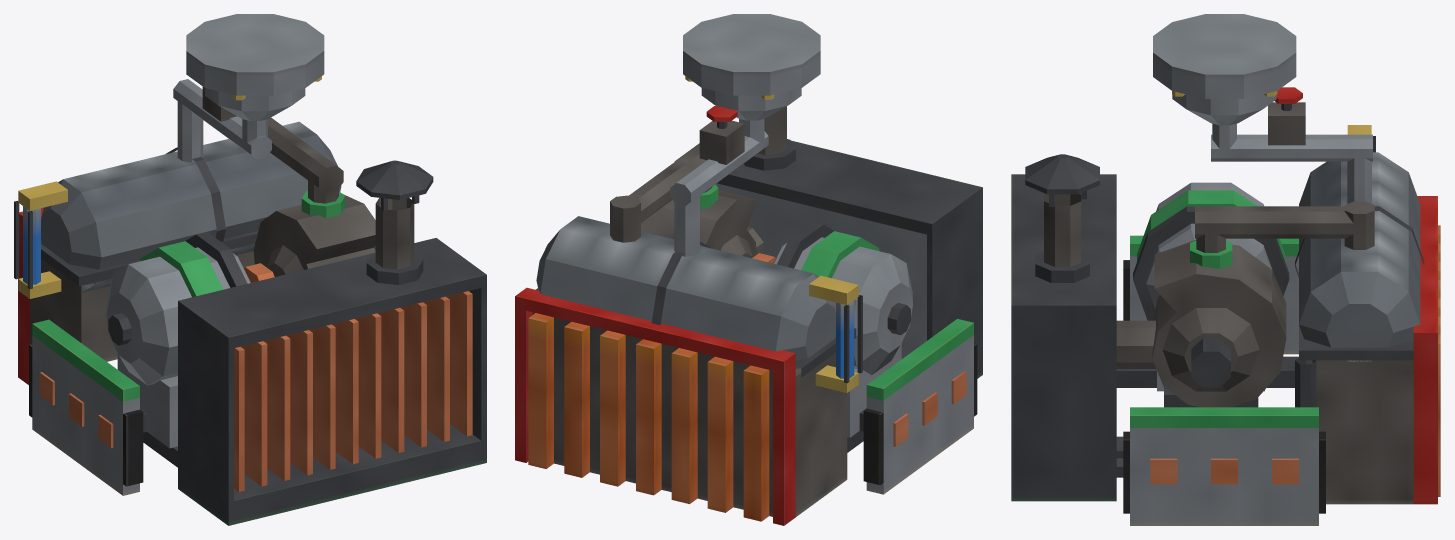
Rendered from compactturbine50v.obj.
3 renders of one model, left to right at view 1: azimuth 30°, elevation 25°; view 2: azimuth 150°, elevation 25°; view 3: azimuth 270°, elevation 25°, orthographic. The views are drawn at different scales.
Visible parts, largest first — view 1: main; view 2: main; view 3: main.
Part boxes in pixels (x1,y1,x2,y2): main: (14, 14, 486, 525); main: (515, 14, 982, 525); main: (1011, 14, 1440, 525).
Bounding box in the file's own units: 1 × 1 × 0.9938.
1 material, 1 textured.
